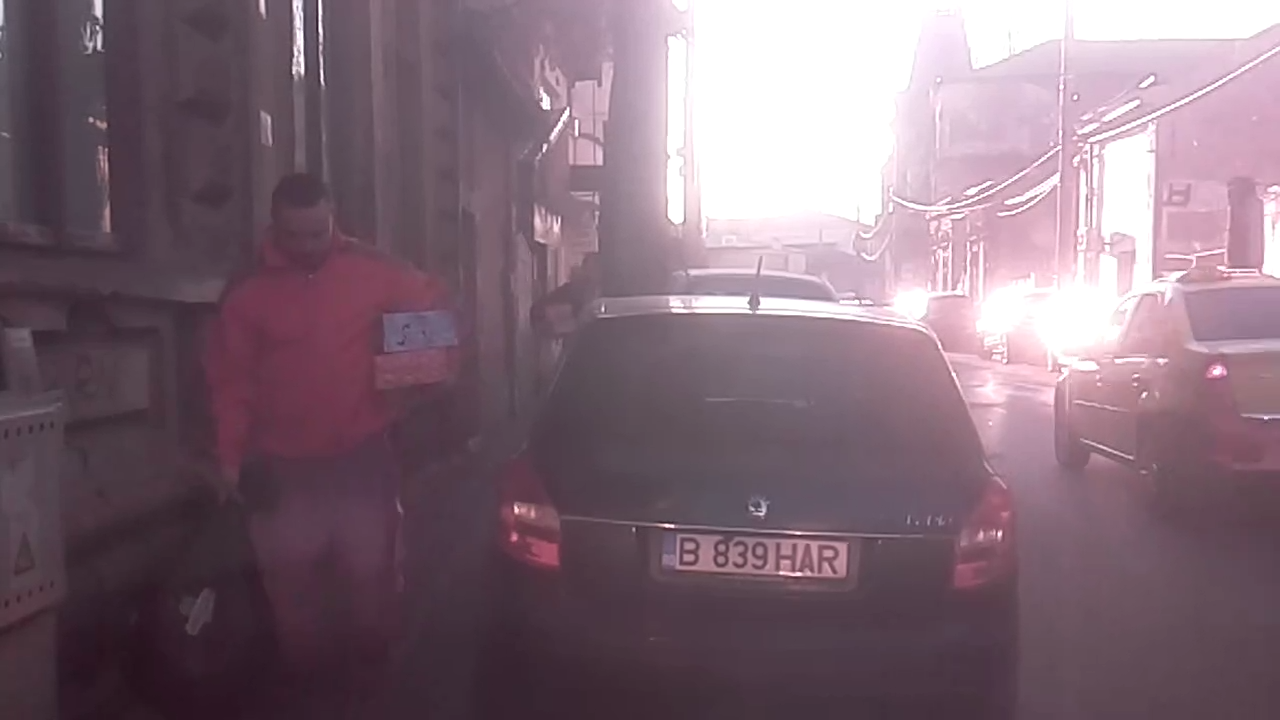license-plate: (657, 525, 853, 585)
